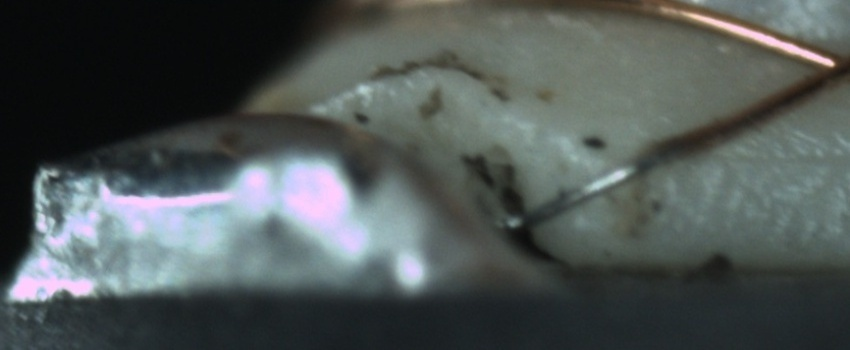CL: (796, 31, 849, 94)
DL: (699, 123, 850, 190)
TS: (500, 146, 667, 234)
